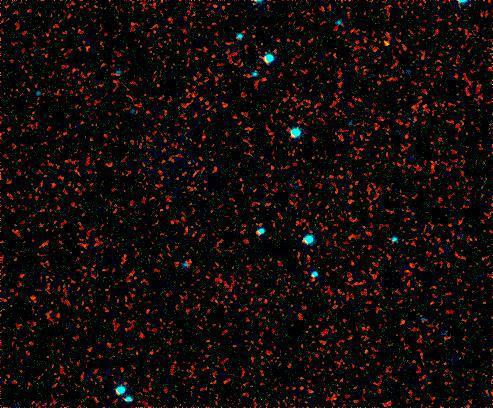star: (371, 29, 401, 59)
